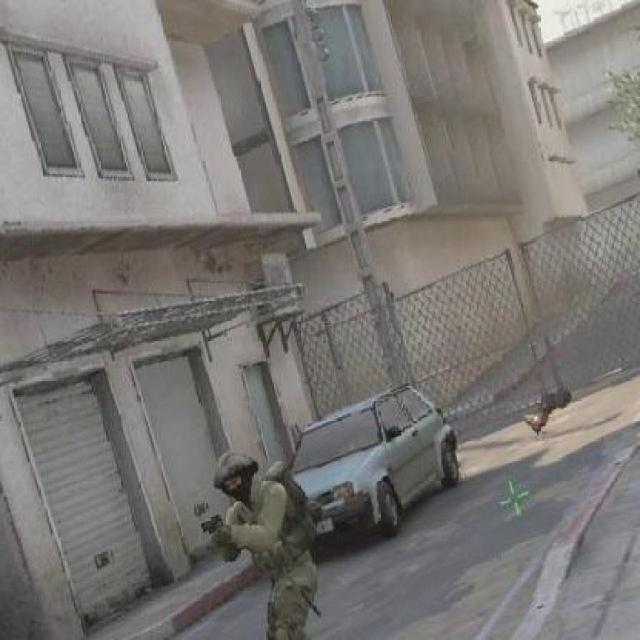CT-Body: (216, 454, 266, 496)
CT-Head: (188, 446, 377, 639)
